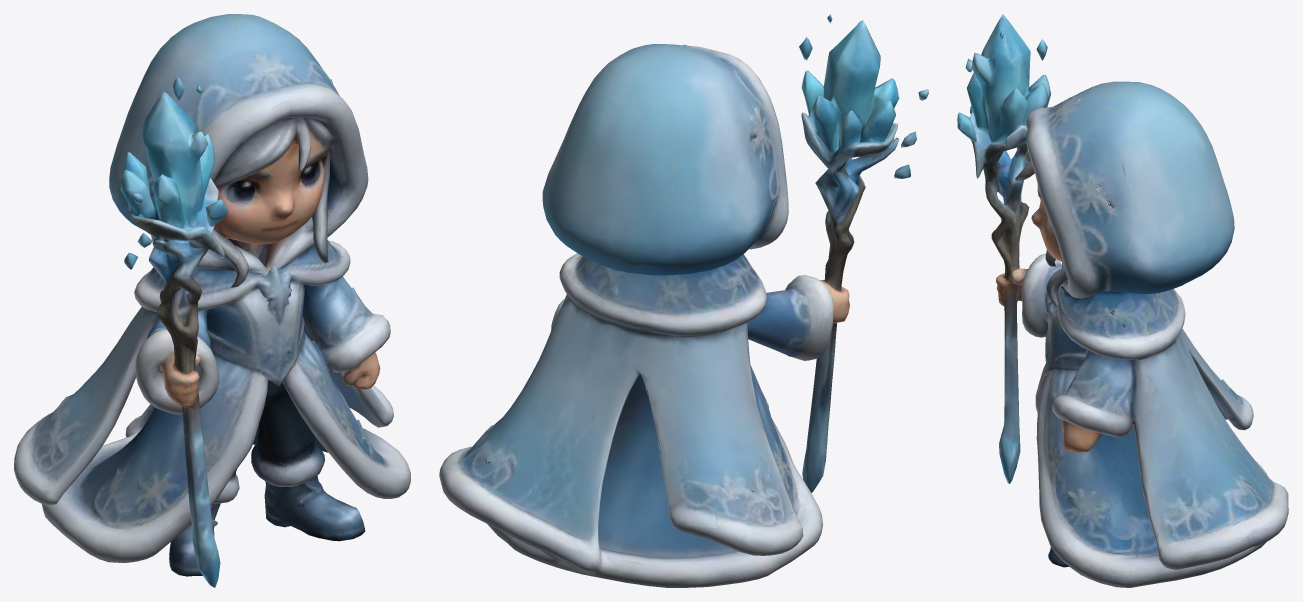
Rendered from model-hero-frost.glb.
3 renders of one model, left to right at view 1: azimuth 30°, elevation 25°; view 2: azimuth 150°, elevation 25°; view 3: azimuth 270°, elevation 25°, orthographic. The views are drawn at different scales.
Parts seen in each view (by area): view 1: geometry_0; view 2: geometry_0; view 3: geometry_0.
Part boxes in pixels (<box>): geometry_0: <box>14,14,410,587</box>; geometry_0: <box>439,14,928,587</box>; geometry_0: <box>957,14,1288,587</box>.
Bounding box in the file's own units: 0.7566 × 1 × 0.6596.
Materials: 1 (1 with a texture image).
